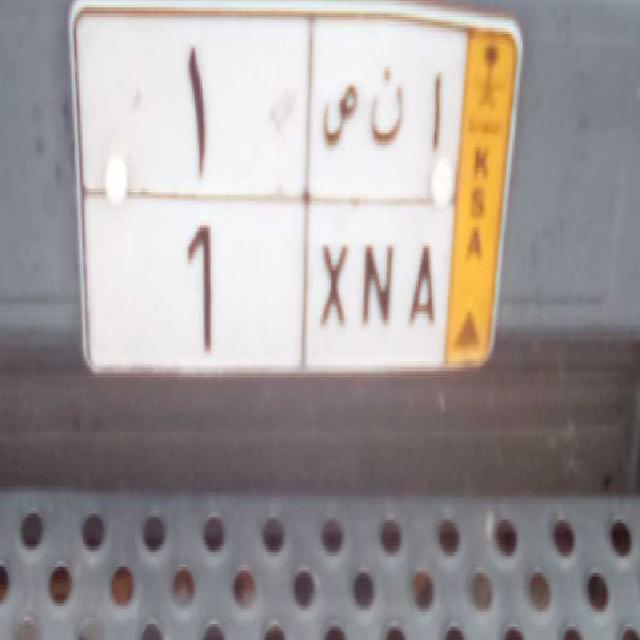license_plate: (74, 181, 448, 375)
